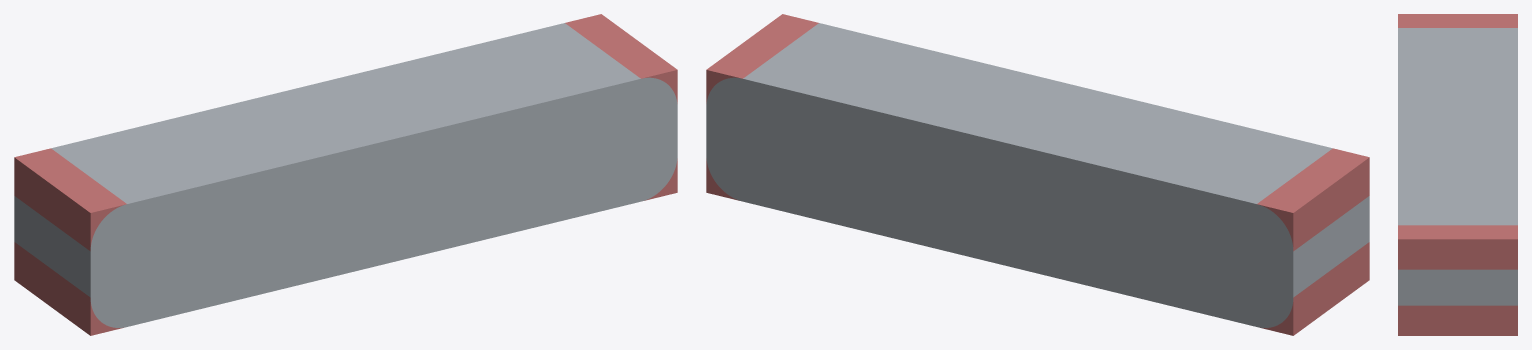
Rendered from step_02.glb.
The picture shows the model from 3 angles, left to right: view 1: azimuth 30°, elevation 25°; view 2: azimuth 150°, elevation 25°; view 3: azimuth 270°, elevation 25°; orthographic projection. The views are drawn at different scales.
Visible parts, largest first — view 1: part__head rest, removed__head rest; view 2: part__head rest, removed__head rest; view 3: part__head rest, removed__head rest.
Part boxes in pixels (left/top/right/bottom): part__head rest: left=14, top=23, right=677, bottom=327; removed__head rest: left=14, top=14, right=677, bottom=335; part__head rest: left=706, top=23, right=1369, bottom=327; removed__head rest: left=706, top=14, right=1369, bottom=335; part__head rest: left=1398, top=28, right=1517, bottom=305; removed__head rest: left=1398, top=14, right=1517, bottom=335.
Size of the model in its own units: 400 by 80 by 90.
